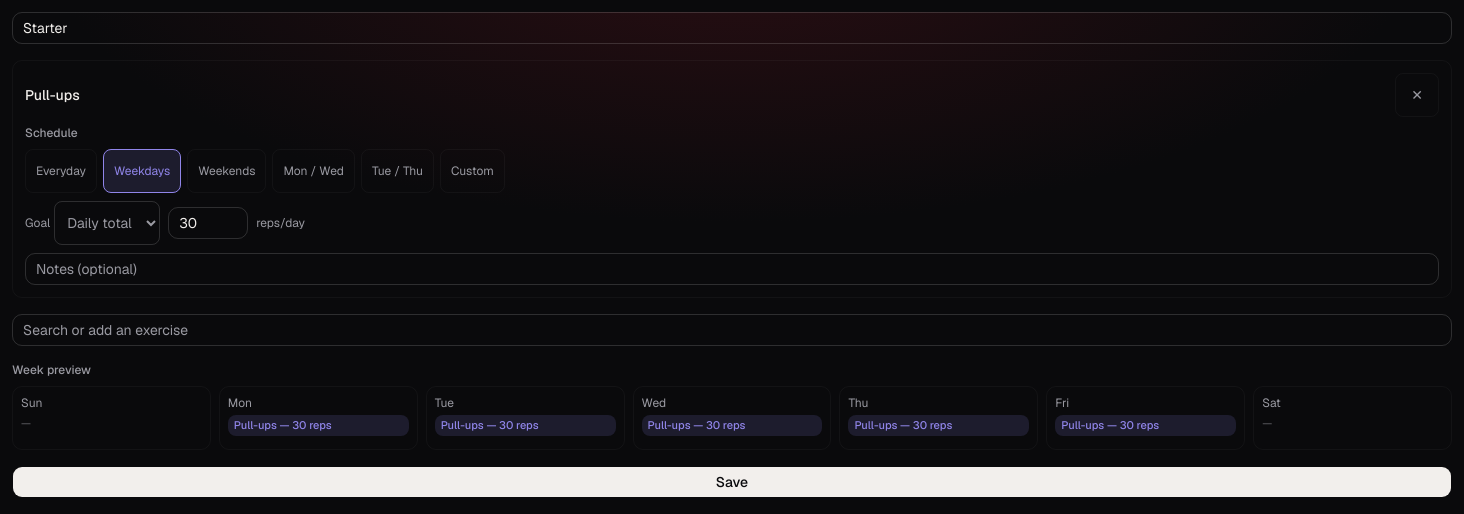
MicroBuilder › removing an exercise clears it from the preview
Check: the element with test id "week-preview-day-1" shows "Pull-ups", box [234,418,277,432]
Click the button named "Remove Pull-ups" at (1417, 95), box [1395,73,1439,117]
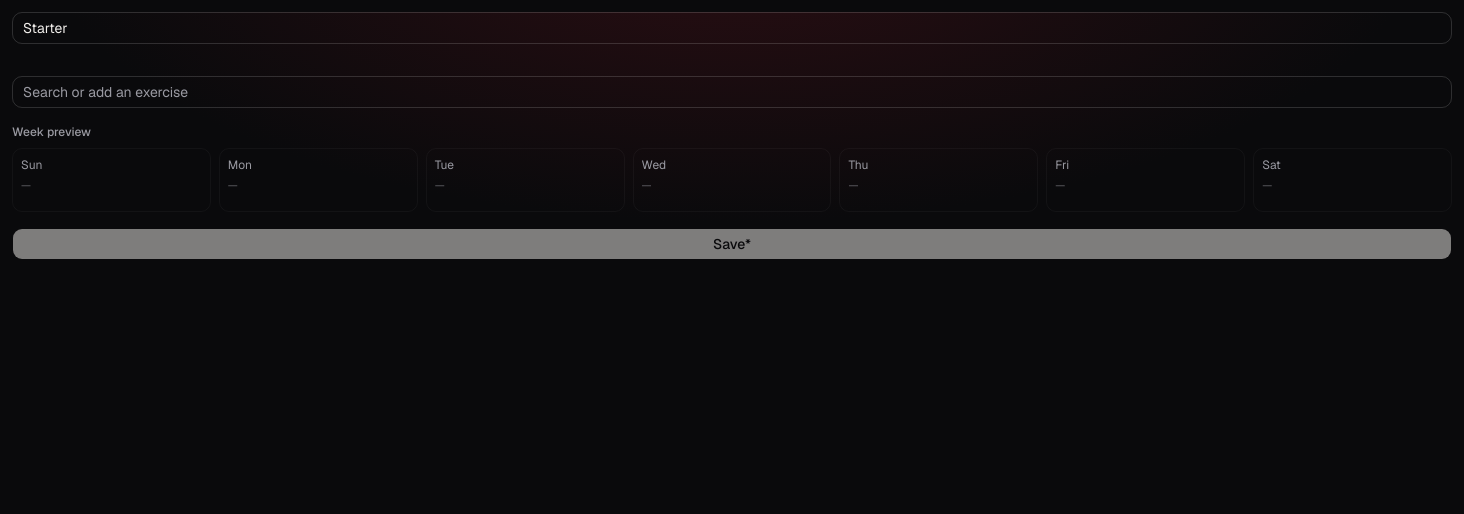
Check: the text with test id "week-preview-day-1" no longer shows "Pull-ups"
